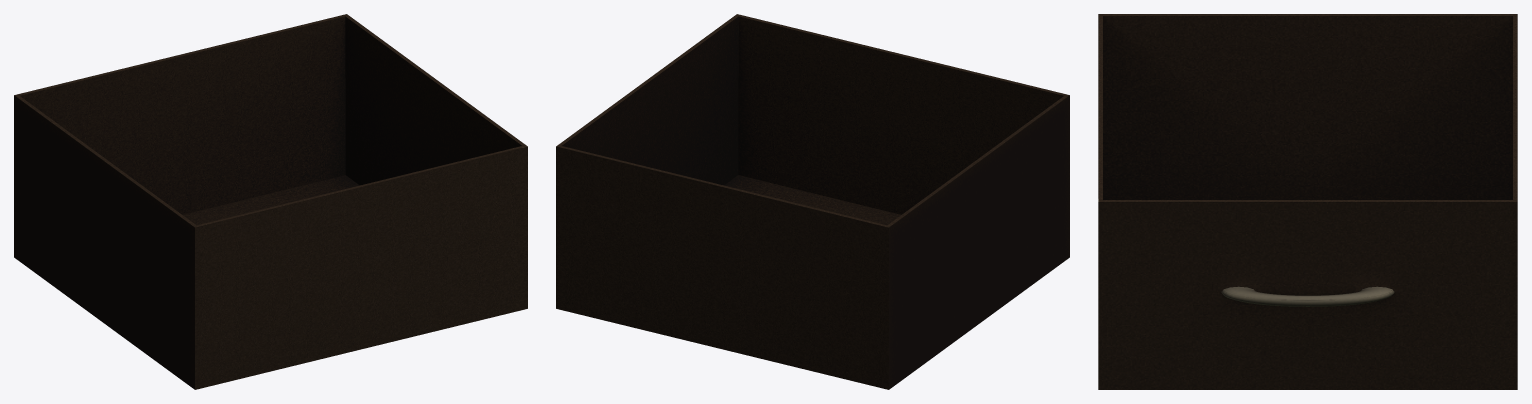
File: drawer-bottom.obj
The picture shows the model from 3 angles, left to right: view 1: azimuth 30°, elevation 25°; view 2: azimuth 150°, elevation 25°; view 3: azimuth 270°, elevation 25°; orthographic projection. The views are drawn at different scales.
Visible parts, largest first — view 1: Drawer_Bottom_Cube.008; view 2: Drawer_Bottom_Cube.008; view 3: Drawer_Bottom_Cube.008.
Boxes of the visible parts, x1,y1,x2,y2 form: Drawer_Bottom_Cube.008: [14, 14, 527, 389]; Drawer_Bottom_Cube.008: [556, 14, 1069, 389]; Drawer_Bottom_Cube.008: [1098, 14, 1517, 389].
Size of the model in its own units: 0.5287 by 0.2317 by 0.4688.
Materials: 2 (2 with a texture image).
